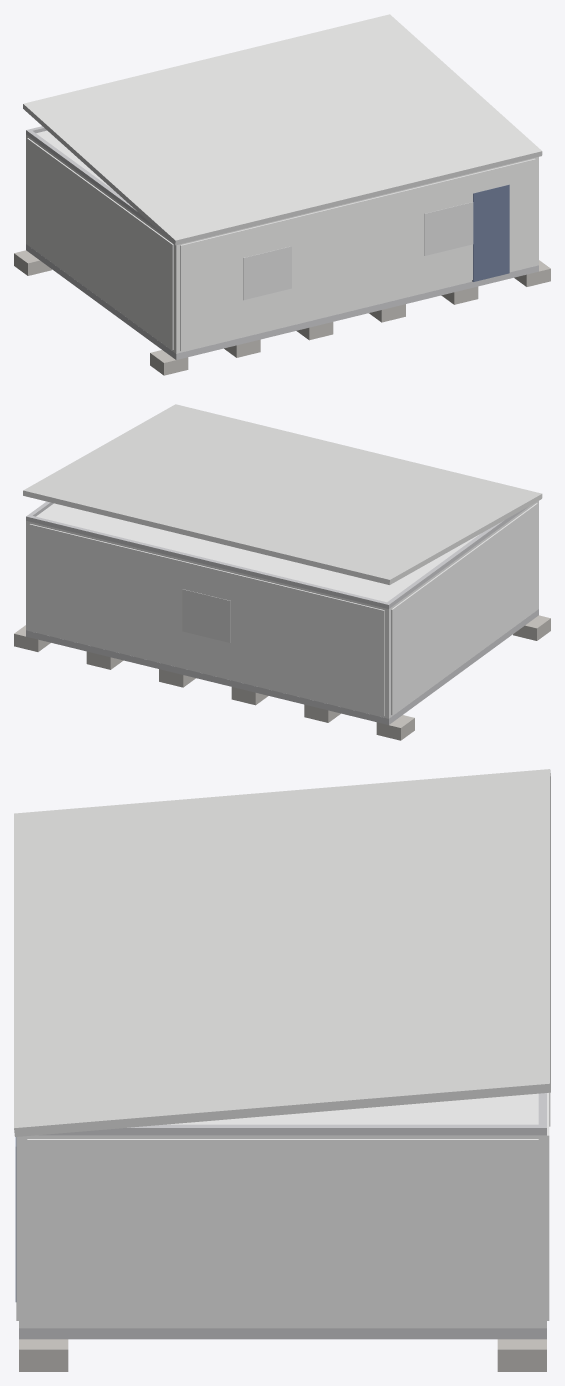
File: Studio-30-SlopingRoof-LOD1.glb
3 renders of one model, top to bottom at view 1: azimuth 30°, elevation 25°; view 2: azimuth 150°, elevation 25°; view 3: azimuth 270°, elevation 25°, orthographic. The views are drawn at different scales.
Parts seen in each view (by area): view 1: RoofSlopingUpgrade, ExteriorPanelsStandard, WindowsStandard, BaseFrame, FoundationBlocks, EntryDoor, ExteriorShell, TopFrame, InteriorCeiling; view 2: ExteriorPanelsStandard, RoofSlopingUpgrade, InteriorCeiling, ExteriorShell, TopFrame, BaseFrame, FoundationBlocks, WindowsStandard; view 3: RoofSlopingUpgrade, ExteriorPanelsStandard, ExteriorShell, BaseFrame, InteriorCeiling, TopFrame, FoundationBlocks.
Boxes of the visible parts, x1,y1,x2,y2 form: RoofSlopingUpgrade: [23, 14, 542, 245]; ExteriorPanelsStandard: [27, 138, 535, 350]; WindowsStandard: [243, 202, 473, 300]; BaseFrame: [26, 244, 538, 359]; FoundationBlocks: [14, 250, 550, 375]; EntryDoor: [472, 184, 509, 281]; ExteriorShell: [26, 134, 538, 353]; TopFrame: [26, 126, 161, 233]; InteriorCeiling: [36, 130, 112, 189]; ExteriorPanelsStandard: [29, 503, 537, 715]; RoofSlopingUpgrade: [23, 404, 542, 584]; InteriorCeiling: [36, 503, 479, 602]; ExteriorShell: [26, 501, 538, 718]; TopFrame: [26, 501, 528, 608]; BaseFrame: [26, 609, 538, 724]; FoundationBlocks: [14, 615, 550, 740]; WindowsStandard: [182, 589, 230, 642]; RoofSlopingUpgrade: [14, 769, 550, 1136]; ExteriorPanelsStandard: [16, 1093, 549, 1325]; ExteriorShell: [19, 1135, 546, 1328]; BaseFrame: [19, 1328, 546, 1339]; InteriorCeiling: [167, 1093, 538, 1124]; TopFrame: [39, 1093, 546, 1135]; FoundationBlocks: [19, 1339, 546, 1371].
Size of the model in its own units: 9.6 by 3.77 by 6.56.
